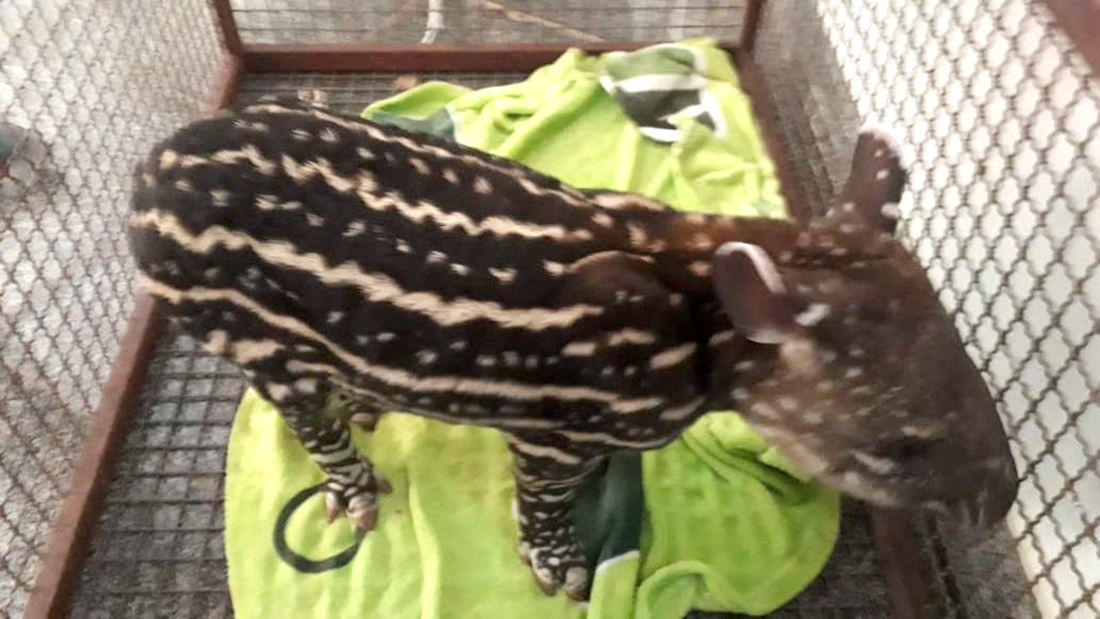Anta: (98, 70, 1030, 598)
